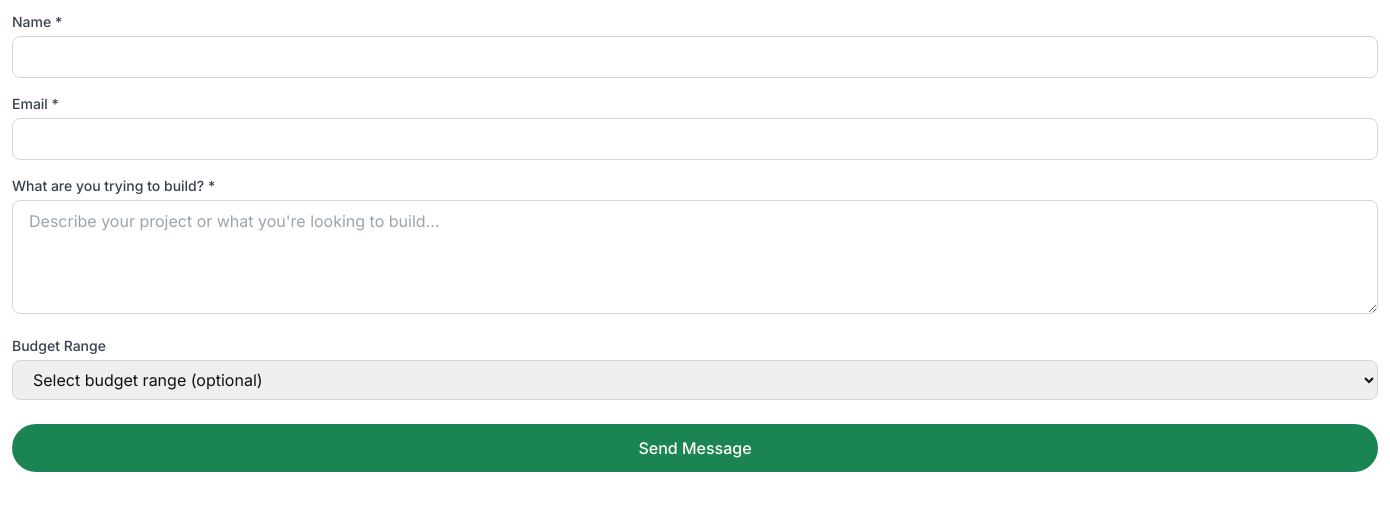
Scenario: ContactForm › shows error message on submission failure
In the field labelled "Name *": (695, 57) [12, 36, 1378, 78], type "John Doe"
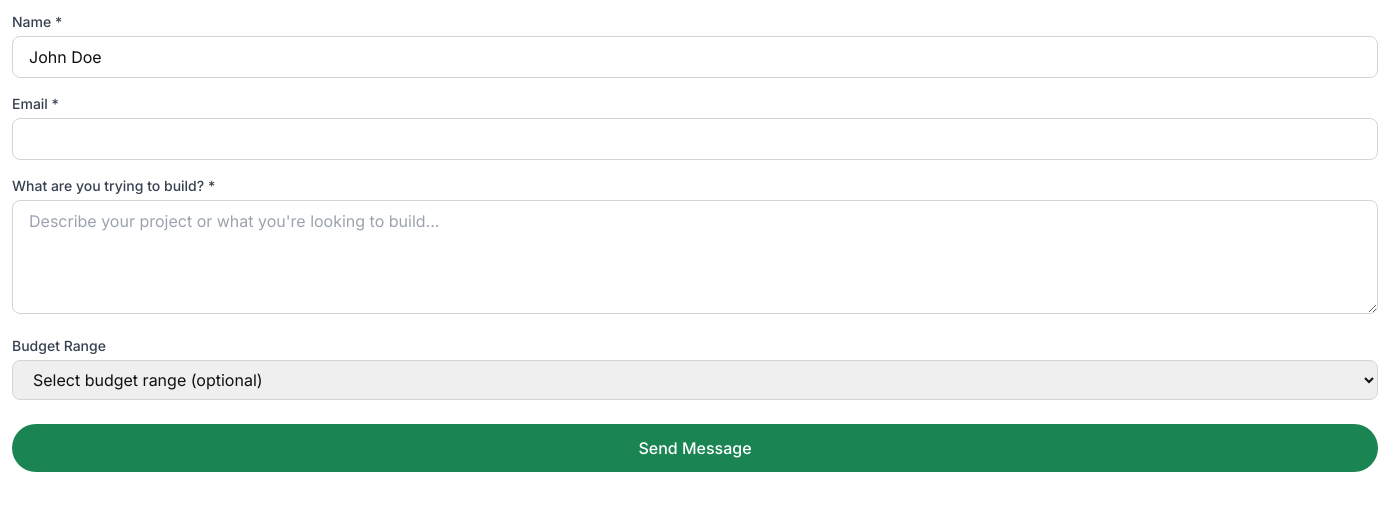
In the field labelled "Email *": (695, 139) [12, 118, 1378, 160], type "john@example.com"
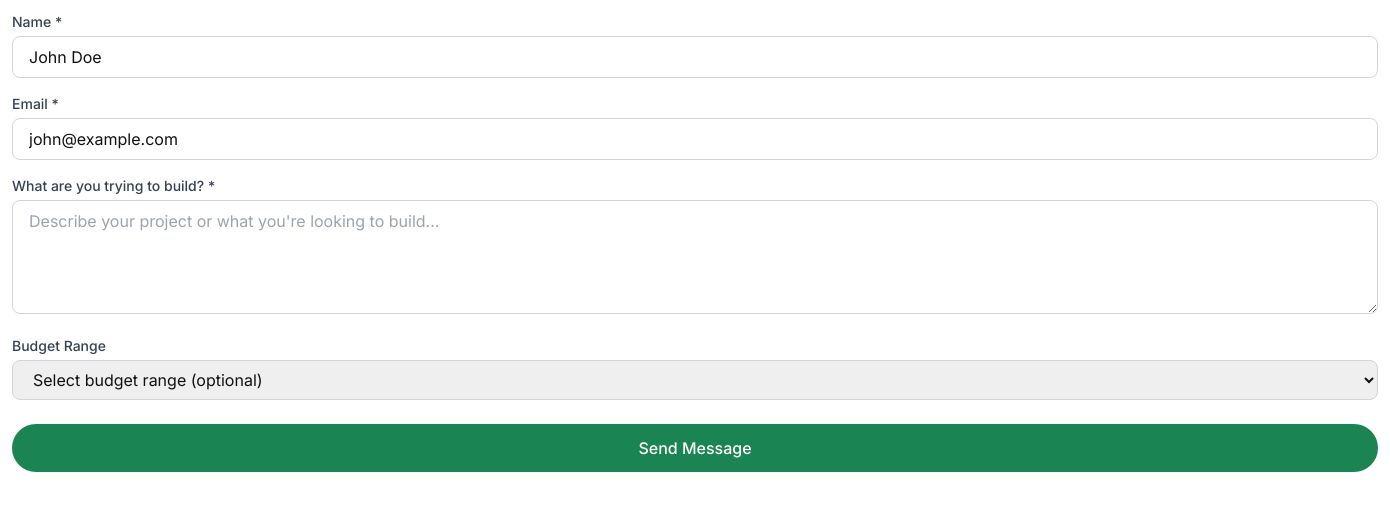
In the text box labelled "What are you trying to build? *": (695, 257) [12, 200, 1378, 314], type "A web application"
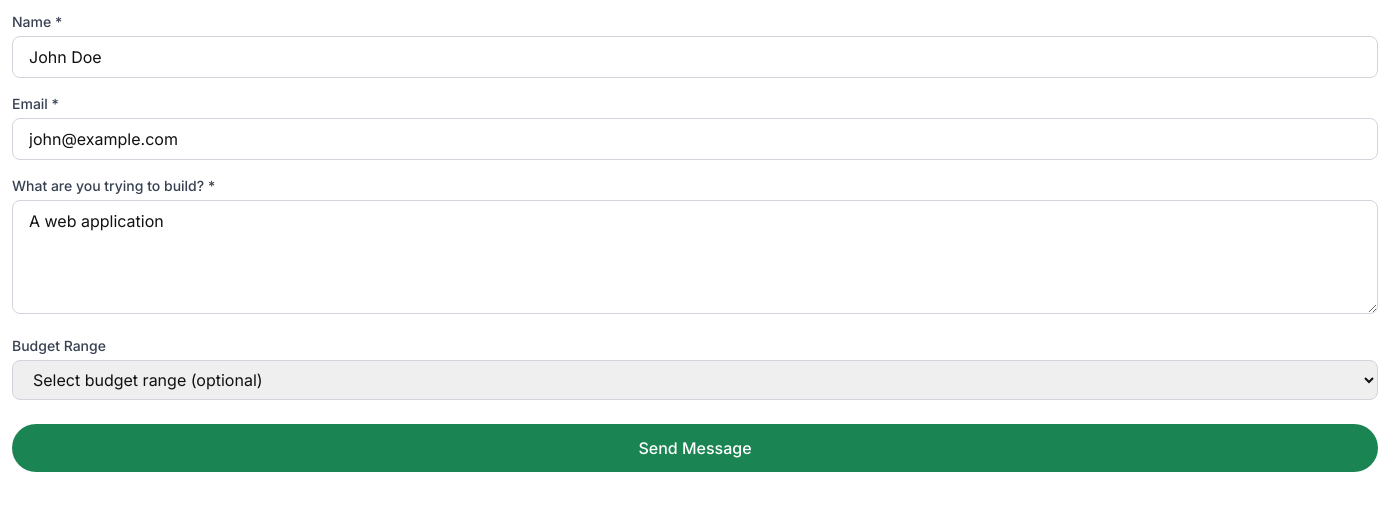
Click the button "Send Message": (695, 448) [12, 424, 1378, 472]
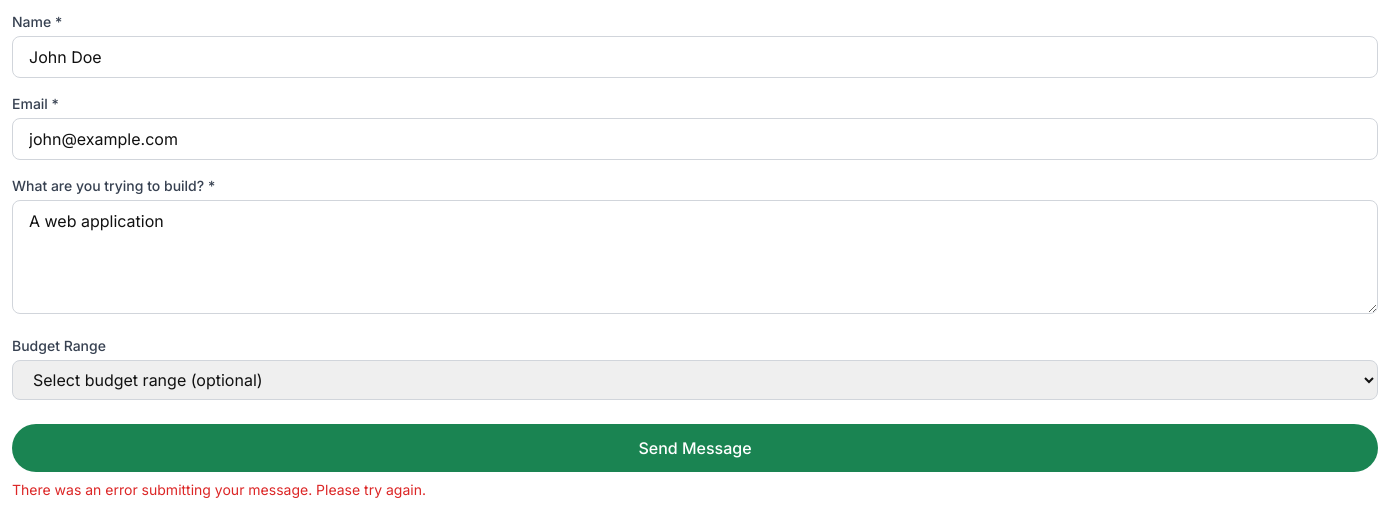
Check: the text "There was an error submitting your message" is shown, box [12, 481, 426, 498]
